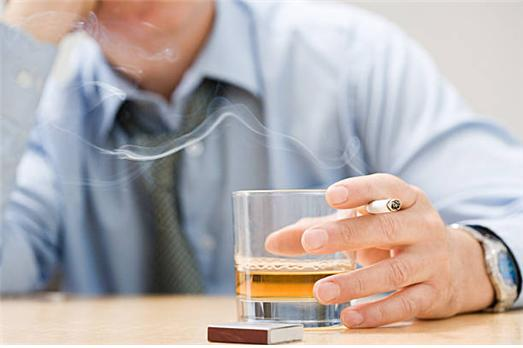alcohol: (230, 186, 353, 330)
cigarette: (334, 196, 403, 221)
